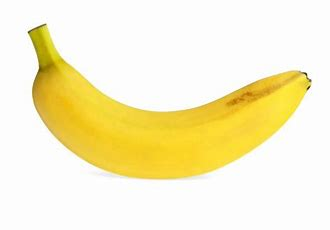fruit_banana: (25, 21, 314, 182)
